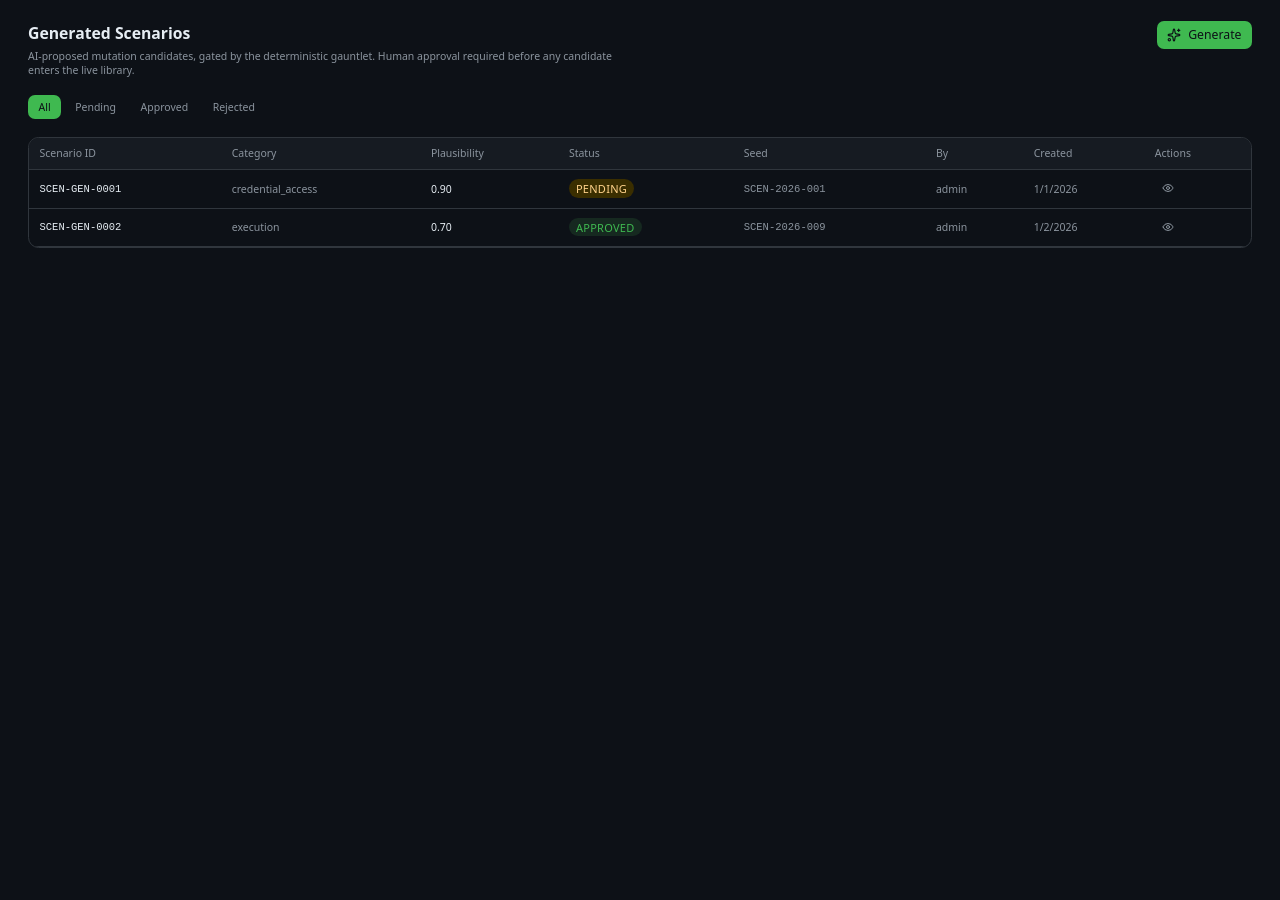
Candidates page › opens detail dialog with YAML and approve action for a pending candidate
The width and height of the screenshot is (1280, 900).
Expected: the text "SCEN-GEN-0001" is shown, [29, 170, 221, 208]
Click the button named "view candidate scen-gen-0001": (1168,188) [1155, 179, 1181, 198]
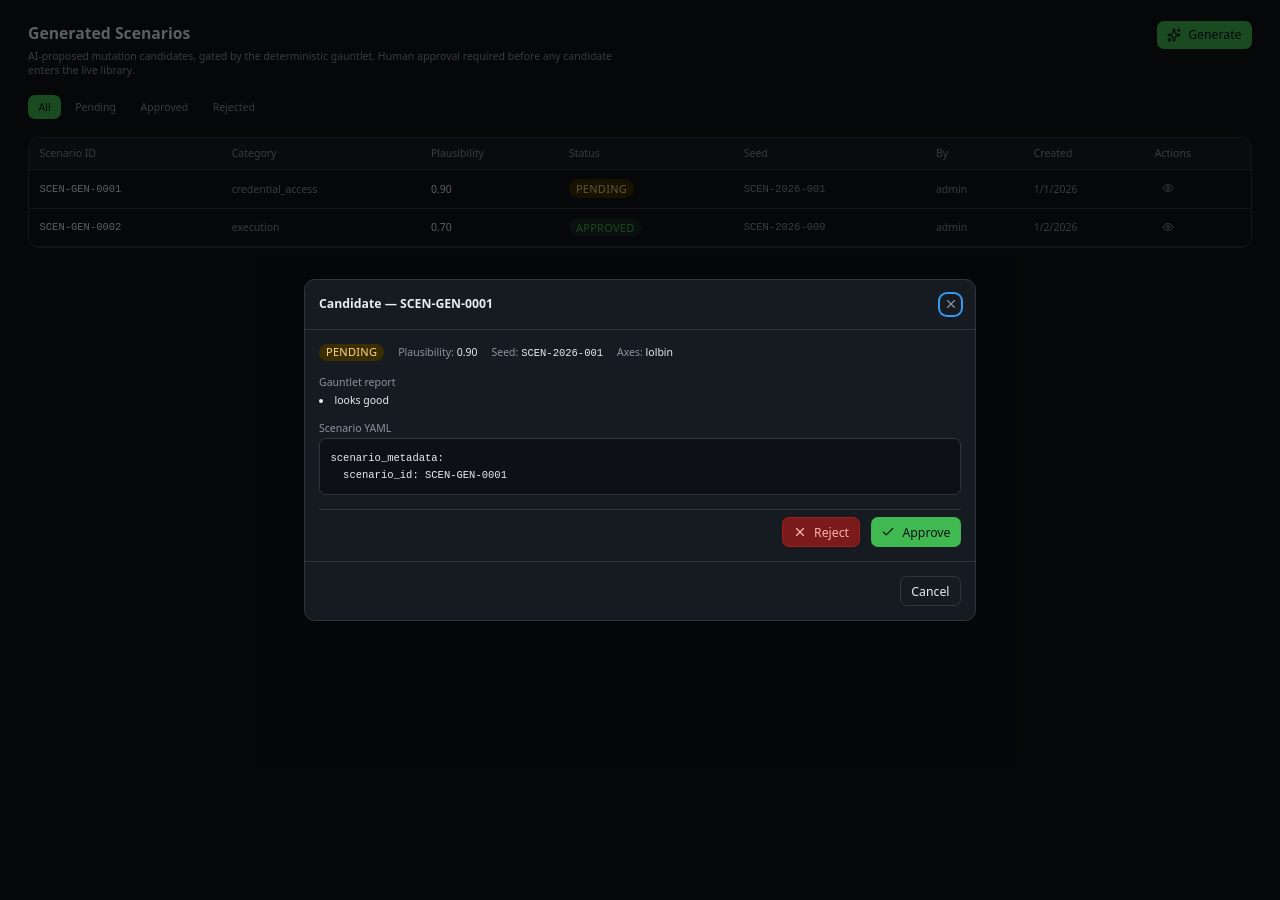
Now the dialog is shown, box [304, 279, 976, 621]
Now the list item "looks good" is shown, box [334, 393, 389, 407]
Now the button "Approve" is shown, box [871, 517, 961, 547]
